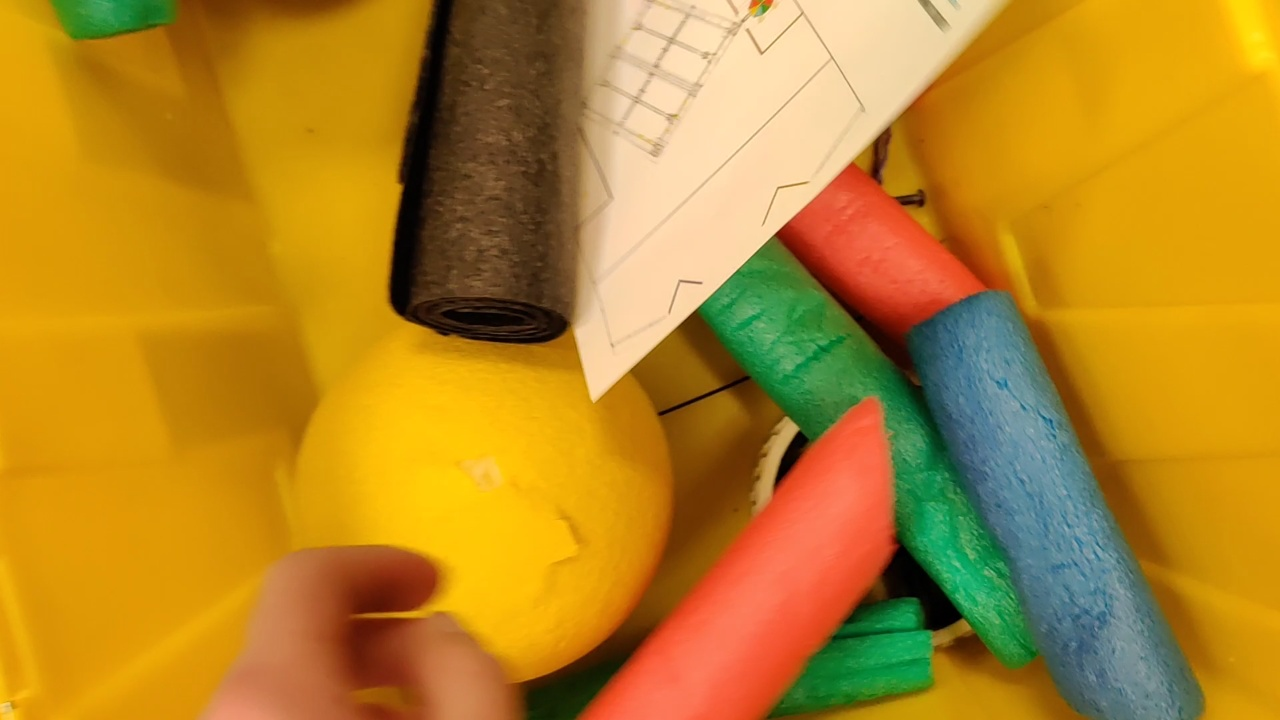Ball: (295, 320, 673, 688)
